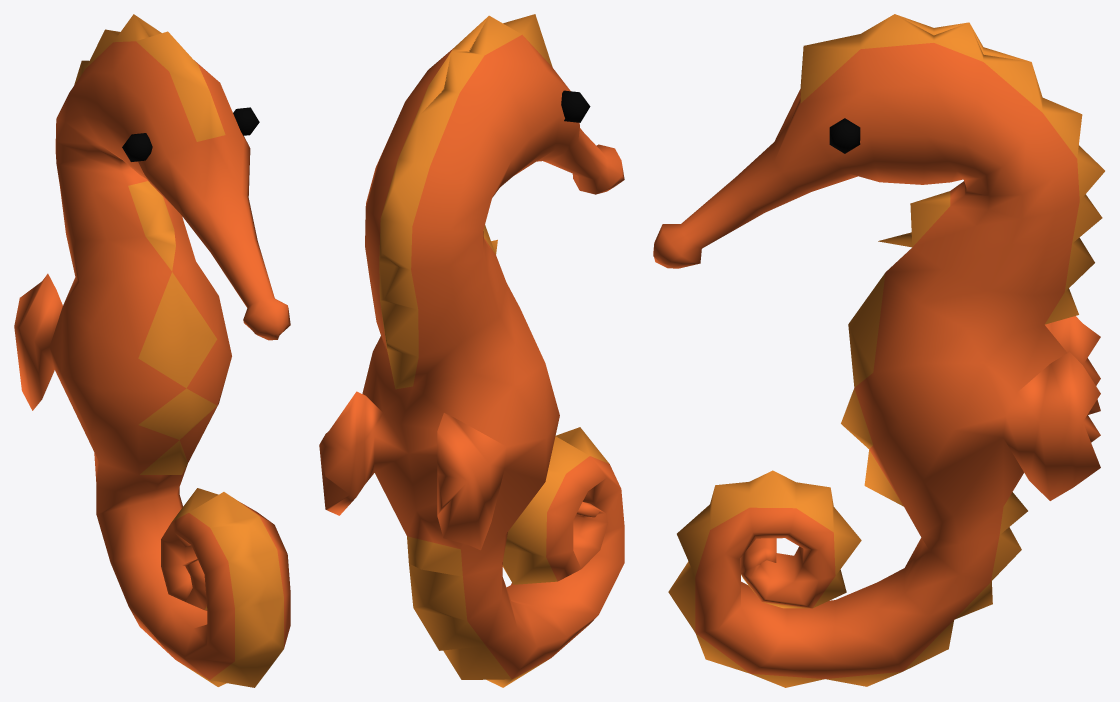
File: ActualSeahorse.glb
The picture shows the model from 3 angles, left to right: view 1: azimuth 30°, elevation 25°; view 2: azimuth 150°, elevation 25°; view 3: azimuth 270°, elevation 25°; orthographic projection. The views are drawn at different scales.
Parts seen in each view (by area): view 1: Symmetry.1; view 2: Symmetry.1; view 3: Symmetry.1.
Boxes of the visible parts, <box> form: Symmetry.1: <box>14,14,290,687</box>; Symmetry.1: <box>319,14,624,687</box>; Symmetry.1: <box>653,14,1104,687</box>.
Bounding box in the file's own units: 132 × 494 × 300.
